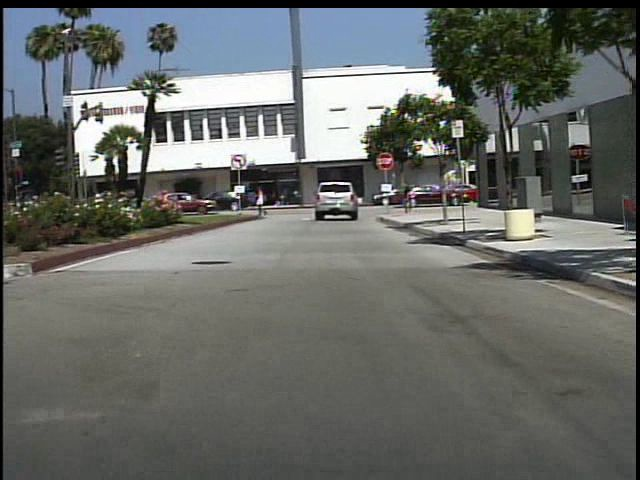person: (255, 181, 276, 220), (398, 179, 420, 215), (288, 182, 289, 208)
